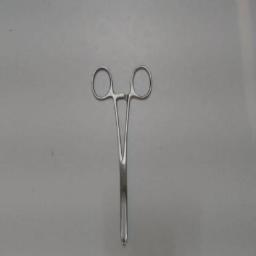Allis Tissue Forceps: (87, 62, 157, 250)
